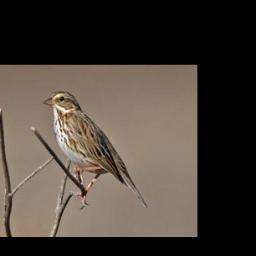Sparrow: (44, 90, 150, 211)
